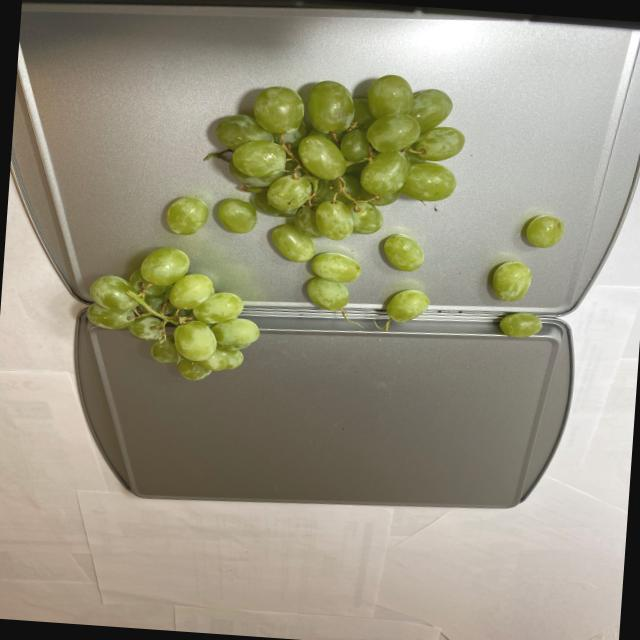grapes: (85, 55, 575, 403)
